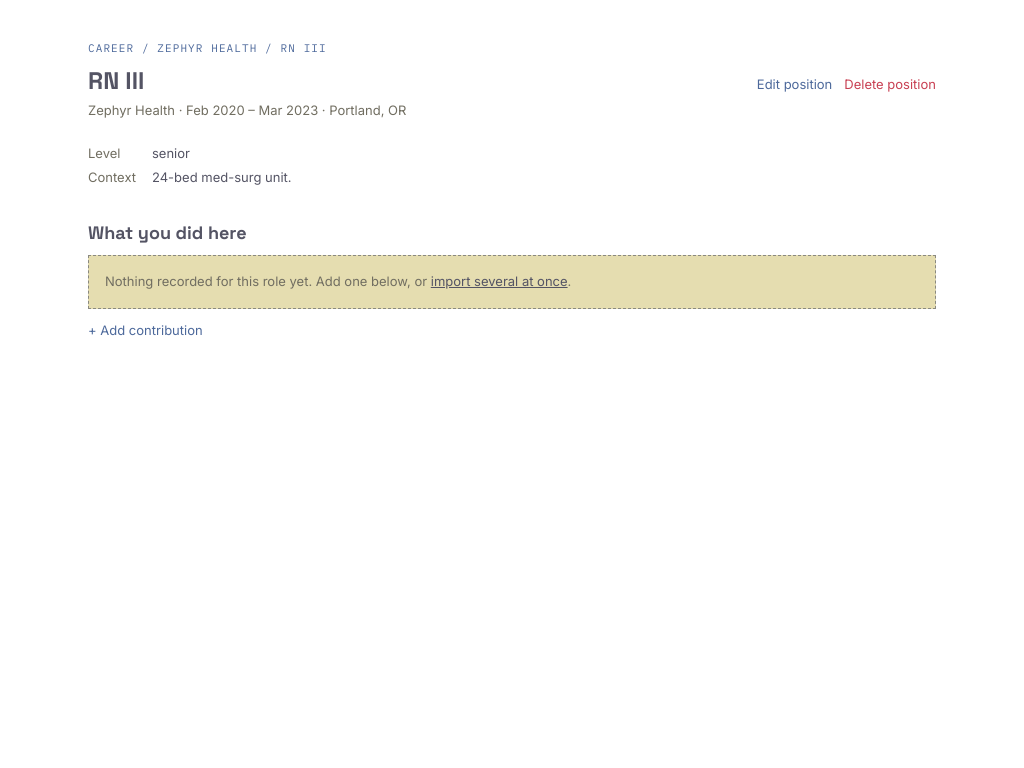
Scenario: editing a position › surfaces a 409 on position delete
Click the button "Delete position".
click(890, 84)  # box [844,74,936,94]
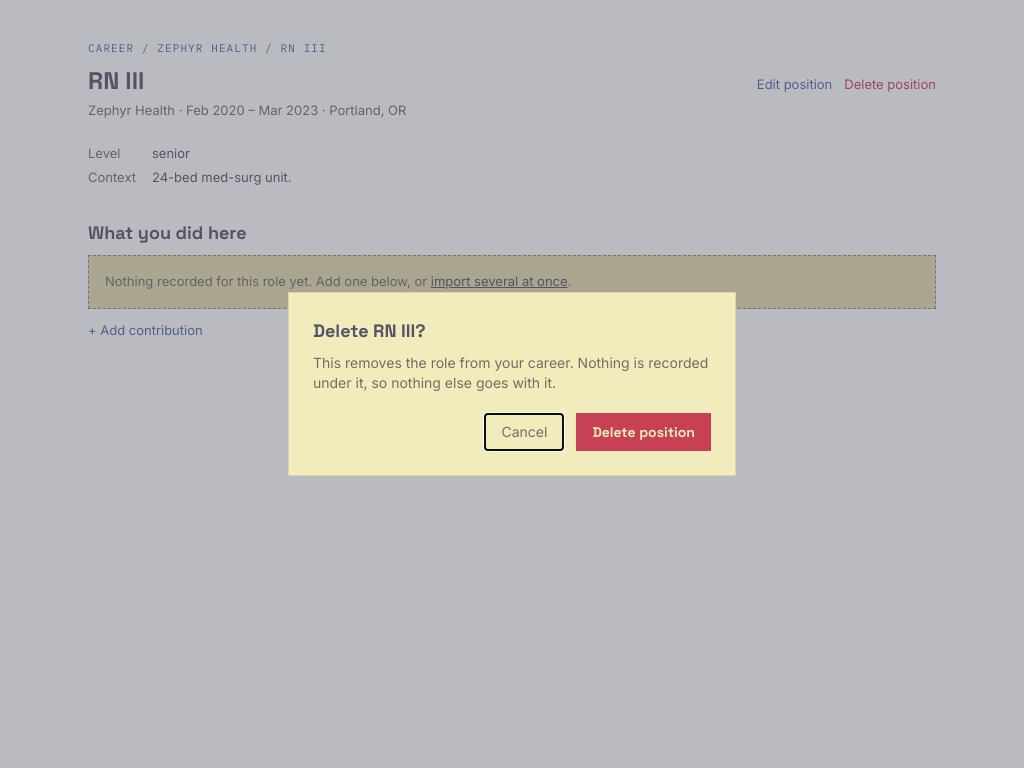
Click the button "Delete position".
click(644, 432)  # box [576,413,711,451]
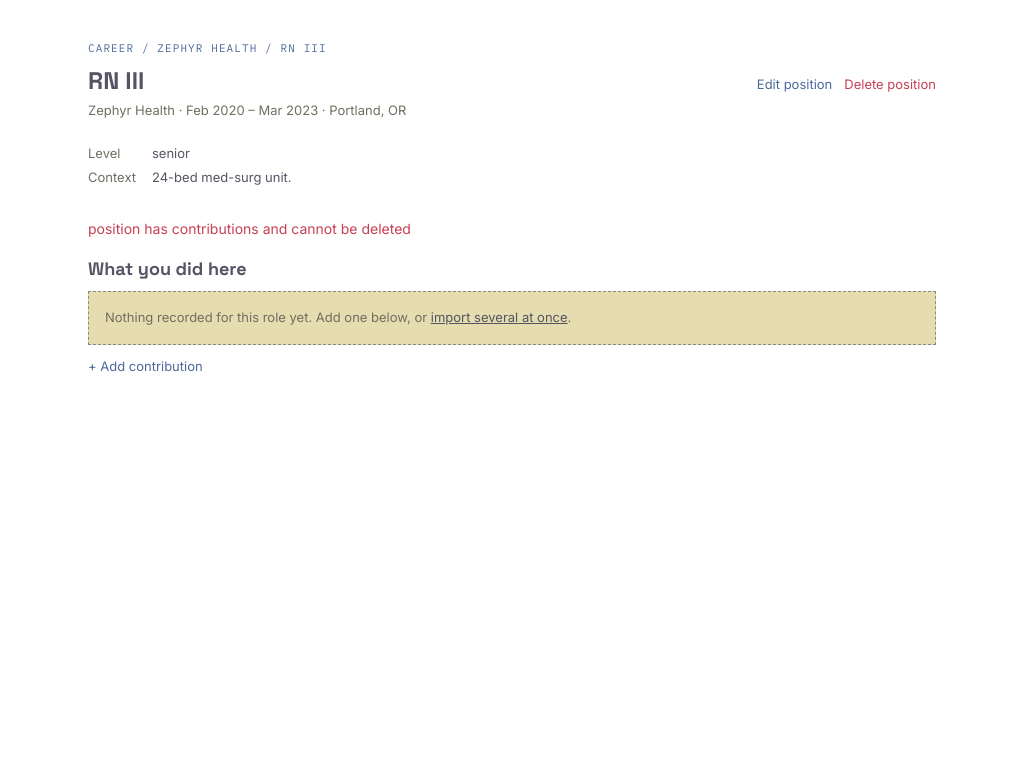
Expected: the message reads "position has contributions and cannot be deleted", [88,220,411,237]
